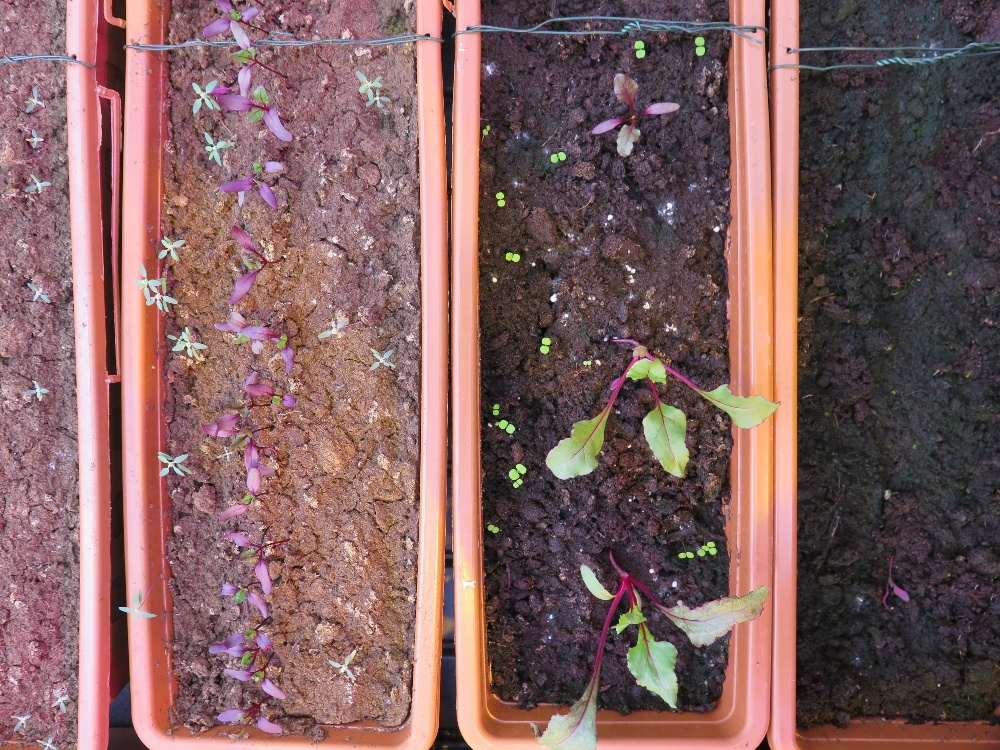crop: (541, 547, 771, 750), (547, 332, 783, 483), (589, 72, 680, 158), (217, 83, 296, 144), (227, 223, 279, 309), (220, 529, 286, 595), (206, 415, 283, 463), (227, 19, 269, 95), (214, 167, 284, 212), (241, 322, 307, 369), (212, 469, 270, 521), (193, 1, 267, 37), (218, 701, 284, 739), (221, 663, 289, 698), (878, 554, 914, 612), (241, 378, 300, 412), (220, 579, 270, 616), (221, 624, 282, 651)
weed: (167, 324, 207, 363), (156, 447, 195, 479), (327, 647, 359, 686), (117, 592, 156, 623), (184, 78, 219, 112), (315, 313, 350, 342), (21, 170, 55, 197), (156, 234, 186, 264), (368, 345, 398, 373), (19, 377, 51, 403), (22, 82, 45, 115), (201, 132, 224, 165), (367, 89, 398, 113), (25, 279, 52, 306), (135, 265, 160, 293), (22, 125, 46, 152), (8, 711, 33, 735), (355, 71, 382, 93), (50, 685, 69, 716), (507, 462, 527, 479), (633, 37, 647, 61), (37, 736, 58, 750), (694, 35, 706, 59), (549, 149, 568, 164), (498, 420, 517, 435), (218, 445, 233, 463), (539, 335, 551, 355), (504, 250, 521, 263), (675, 549, 694, 560), (486, 521, 500, 535), (704, 542, 716, 558), (495, 190, 505, 209), (481, 121, 491, 138), (491, 402, 500, 417), (512, 478, 524, 489), (582, 358, 594, 366)
